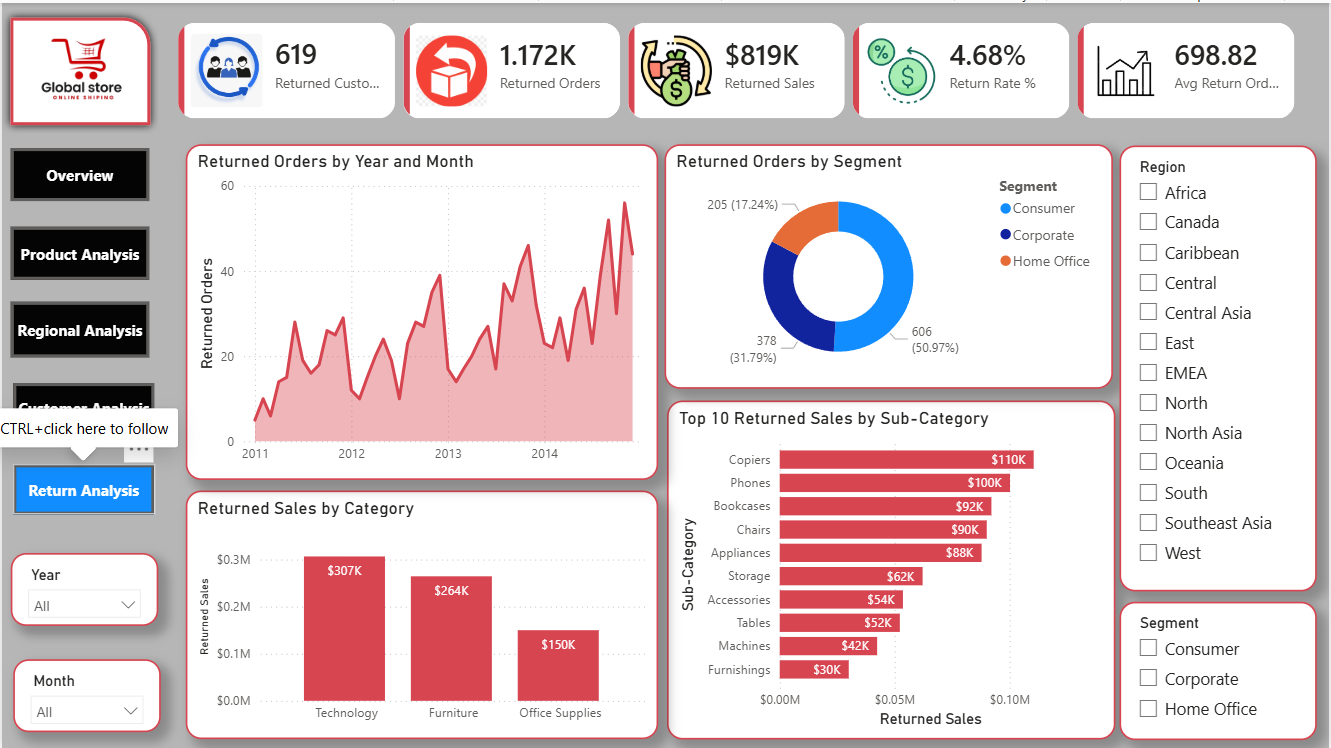

This screenshot's page, from the dashboard's own definition file:
{"tool":"powerbi","page":{"name":"Return Analysis","canvas":[1280,720],"ordinal":4},"visuals":[{"type":"actionButton","box":[8.8,216.2,133.8,51.2],"z":0},{"type":"actionButton","box":[8.8,288.8,133.8,53.8],"z":1000},{"type":"actionButton","box":[11.2,366.2,136.2,48.8],"z":2000},{"type":"actionButton","box":[8.8,140,133.8,51.2],"z":3000},{"type":"shape","box":[0,6.2,151.2,120],"z":4000},{"type":"image","box":[11.2,15,131.2,100],"z":5000},{"type":"slicer","fields":{"Values":["Orders.Order Date.Variation.Date Hierarchy.Year"]},"box":[8.8,531.2,142.5,70],"z":6000},{"type":"slicer","fields":{"Values":["Orders.Order Date.Variation.Date Hierarchy.Month"]},"box":[11.2,633.8,142.5,70],"z":7000},{"type":"actionButton","box":[11.2,445,136.2,48.8],"z":8000},{"type":"clusteredBarChart","title":"Top 10 Returned Sales by Sub-Category","fields":{"Y":["Returns.Returned Sales"],"Category":["Orders.Sub-Category"]},"box":[641.2,383.8,432.5,327.5],"z":9000},{"type":"clusteredColumnChart","fields":{"Y":["Returns.Returned Sales"],"Category":["Orders.Category"]},"box":[177.5,470,456.2,240],"z":10000},{"type":"lineChart","fields":{"Y":["Returns.Returned Orders"],"Category":["Orders.Order Date.Variation.Date Hierarchy.Year","Orders.Order Date.Variation.Date Hierarchy.Month"]},"box":[177.5,136.2,456.2,323.8],"z":11000},{"type":"donutChart","fields":{"Category":["Orders.Segment"],"Y":["Returns.Returned Orders"]},"box":[640,136.2,432.5,236.2],"z":12000},{"type":"cardVisual","fields":{"Data":["Returns.Returned Customers","Returns.Returned Orders","Returns.Returned Sales","Returns.Return Rate %","Returns.Avg Return Order Value"]},"box":[153.8,2.5,1115,126.2],"z":13000},{"type":"slicer","fields":{"Values":["Orders.Region"]},"box":[1078.8,137.5,190,430],"z":14000},{"type":"slicer","fields":{"Values":["Orders.Segment"]},"box":[1078.8,577.5,190,133.8],"z":15000}]}

Visuals, with their boxes in screenshot pixels (x1, y1, x2, y2), scaled from the page's 1280x720 canvas onto the 1331x748 screenshot:
actionButton: left=9, top=225, right=148, bottom=278
actionButton: left=9, top=300, right=148, bottom=356
actionButton: left=12, top=380, right=153, bottom=431
actionButton: left=9, top=145, right=148, bottom=199
shape: left=0, top=6, right=157, bottom=131
image: left=12, top=16, right=148, bottom=119
slicer - Orders.Order Date.Variation.Date Hierarchy.Year: left=9, top=552, right=157, bottom=625
slicer - Orders.Order Date.Variation.Date Hierarchy.Month: left=12, top=658, right=160, bottom=731
actionButton: left=12, top=462, right=153, bottom=513
"Top 10 Returned Sales by Sub-Category" clusteredBarChart: left=667, top=399, right=1116, bottom=739
clusteredColumnChart - Returns.Returned Sales x Orders.Category: left=185, top=488, right=659, bottom=738
lineChart - Returns.Returned Orders x Orders.Order Date.Variation.Date Hierarchy.Year: left=185, top=141, right=659, bottom=478
donutChart - Orders.Segment x Returns.Returned Orders: left=666, top=141, right=1115, bottom=387
cardVisual - Returns.Returned Customers x Returns.Returned Orders: left=160, top=3, right=1319, bottom=134
slicer - Orders.Region: left=1122, top=143, right=1319, bottom=590
slicer - Orders.Segment: left=1122, top=600, right=1319, bottom=739
